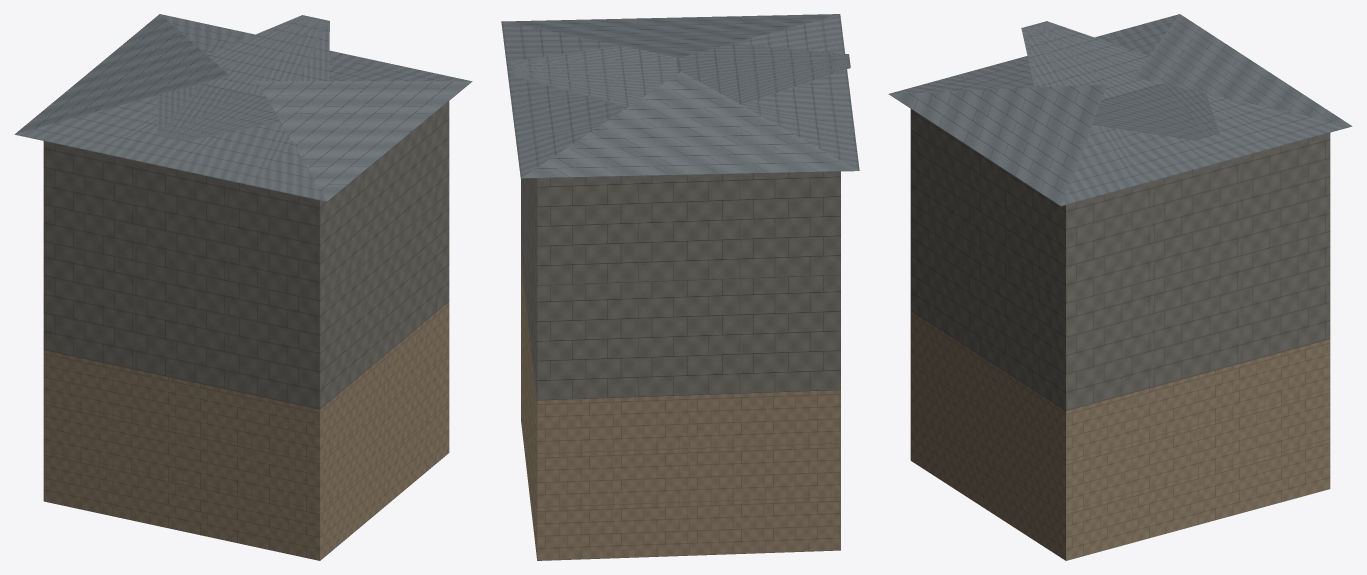
The model's file is bld_c19_30_377.gltf.
3 views of the same model, side by side, from view 1: azimuth 30°, elevation 25°; view 2: azimuth 150°, elevation 25°; view 3: azimuth 270°, elevation 25° (orthographic). The views are drawn at different scales.
Parts seen in each view (by area): view 1: bld_c19_30_377; view 2: bld_c19_30_377; view 3: bld_c19_30_377.
Part boxes in pixels (x1,y1,x2,y2): bld_c19_30_377: (14, 14, 472, 560); bld_c19_30_377: (501, 14, 859, 560); bld_c19_30_377: (888, 14, 1352, 560).
Size of the model in its own units: 14.04 by 13.4 by 14.31.
3 materials, 3 textured.
